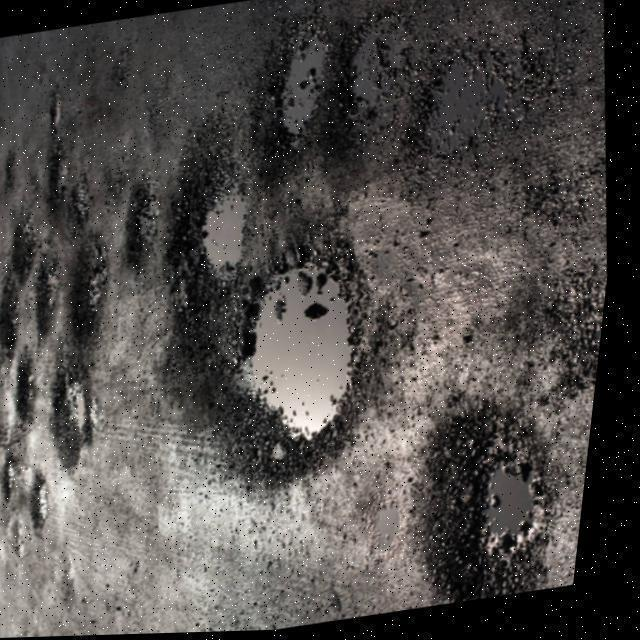Pothole: (201, 239, 383, 477), (421, 397, 576, 606), (409, 53, 527, 164), (185, 136, 268, 283), (268, 21, 335, 146), (349, 18, 413, 122), (75, 241, 115, 336), (62, 368, 102, 460), (127, 186, 164, 265), (39, 260, 71, 336), (15, 216, 47, 279), (22, 348, 49, 420), (3, 279, 30, 350), (51, 152, 74, 197), (42, 476, 64, 522), (11, 457, 32, 499), (75, 184, 96, 221), (51, 93, 66, 131)
